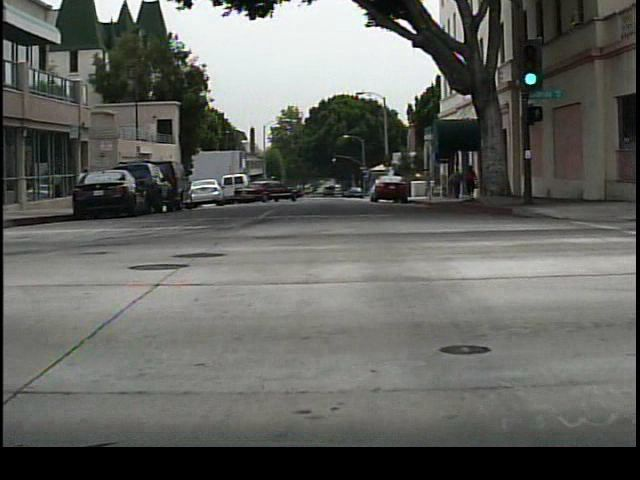person: (463, 160, 481, 204), (446, 170, 466, 205)
